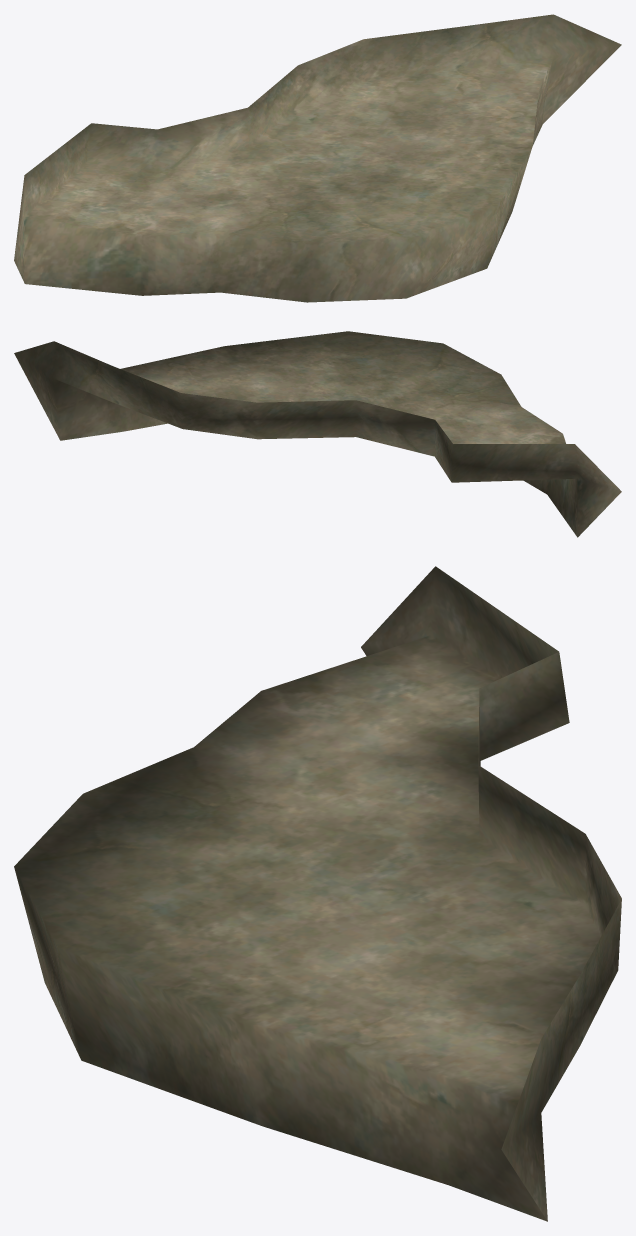
The model's file is EKH_CAVERNS_PS_CA_PLATFORM4499238.fbx.
3 renders of one model, top to bottom at view 1: azimuth 30°, elevation 25°; view 2: azimuth 150°, elevation 25°; view 3: azimuth 270°, elevation 25°, orthographic. The views are drawn at different scales.
Parts seen in each view (by area): view 1: EKH_CAVERNS_PS_CA_PLATFORM4499238; view 2: EKH_CAVERNS_PS_CA_PLATFORM4499238; view 3: EKH_CAVERNS_PS_CA_PLATFORM4499238.
Part boxes in pixels (x1,y1,x2,y2): EKH_CAVERNS_PS_CA_PLATFORM4499238: (14, 14, 621, 302); EKH_CAVERNS_PS_CA_PLATFORM4499238: (14, 331, 621, 537); EKH_CAVERNS_PS_CA_PLATFORM4499238: (14, 566, 621, 1221).
Size of the model in its own units: 77845 by 12543 by 36255.
Materials: 1 (1 with a texture image).
